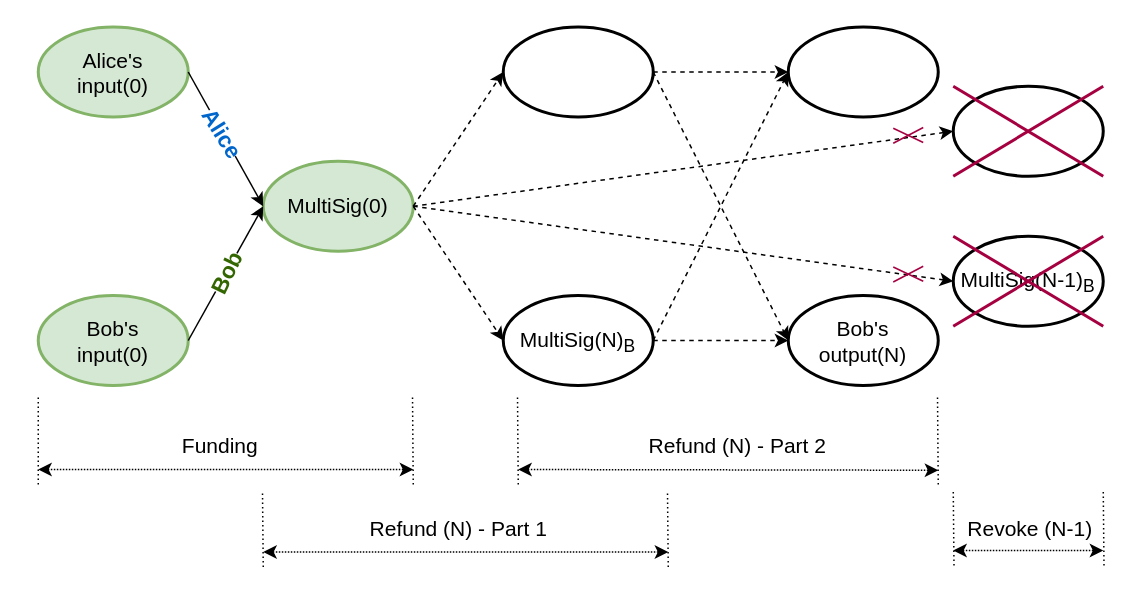
The diagram is 1143 pixels wide and 596 high, and some of its shapes have lost their labels. The centre of each missing label's shape, as x and y in pixels:
"Alice's output(N)" belongs at [862,71].
"MultiSig(N) A" belongs at [577,71].
"MultiSig(N-1) A" belongs at [1027,130].
